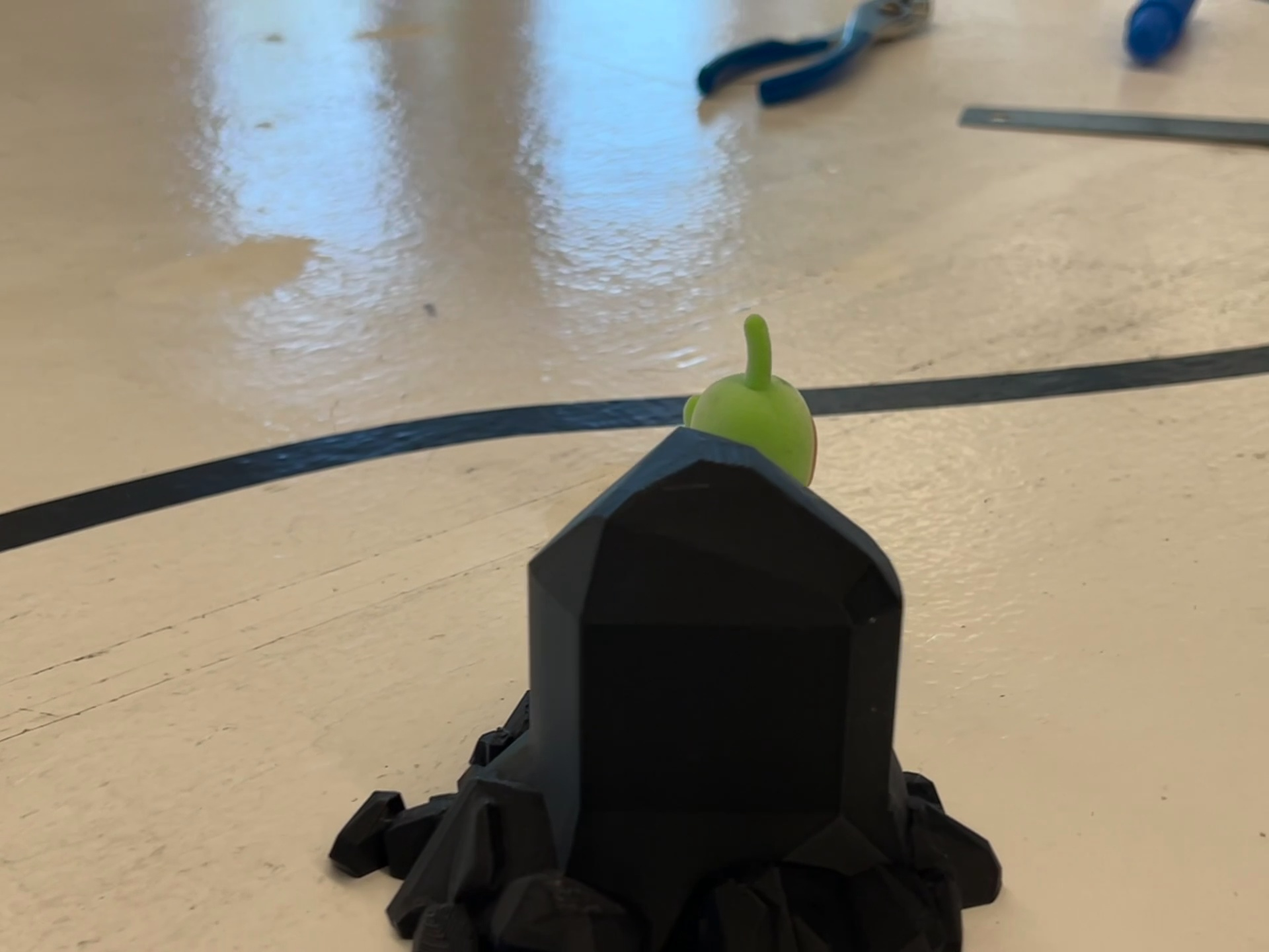teletubby: (683, 315, 818, 485)
